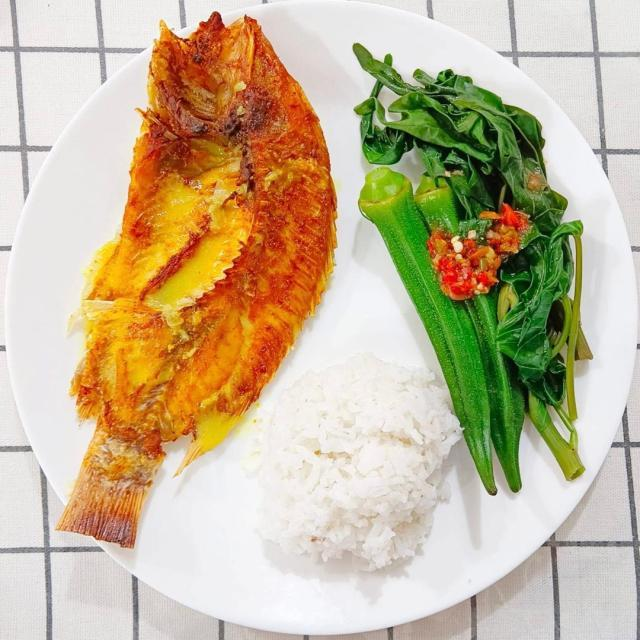Fish: (58, 11, 337, 551)
Plate: (33, 439, 38, 449)
Rice: (243, 356, 466, 579)
Vegetables: (352, 41, 594, 500)
